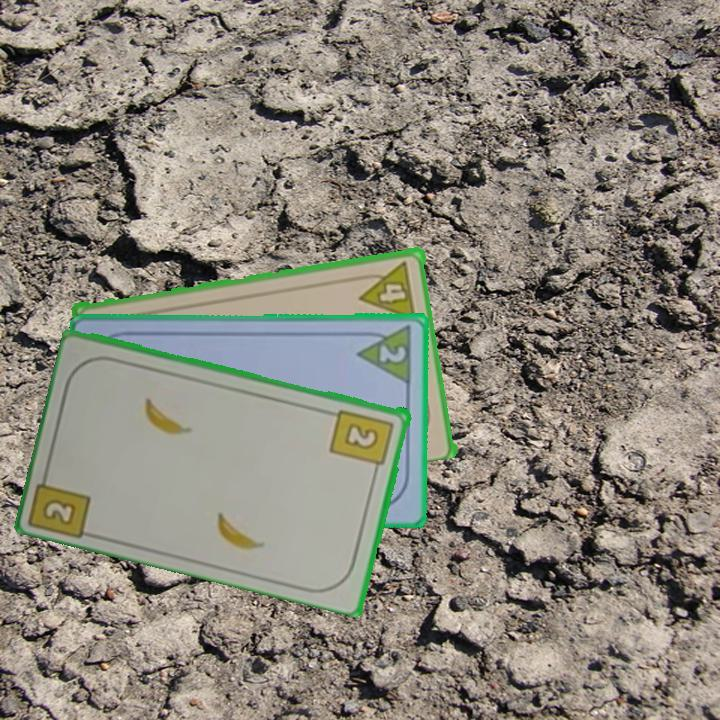2b: (327, 405, 397, 477), (29, 463, 95, 539)
2p: (355, 321, 415, 386)
4p: (355, 257, 419, 322)
